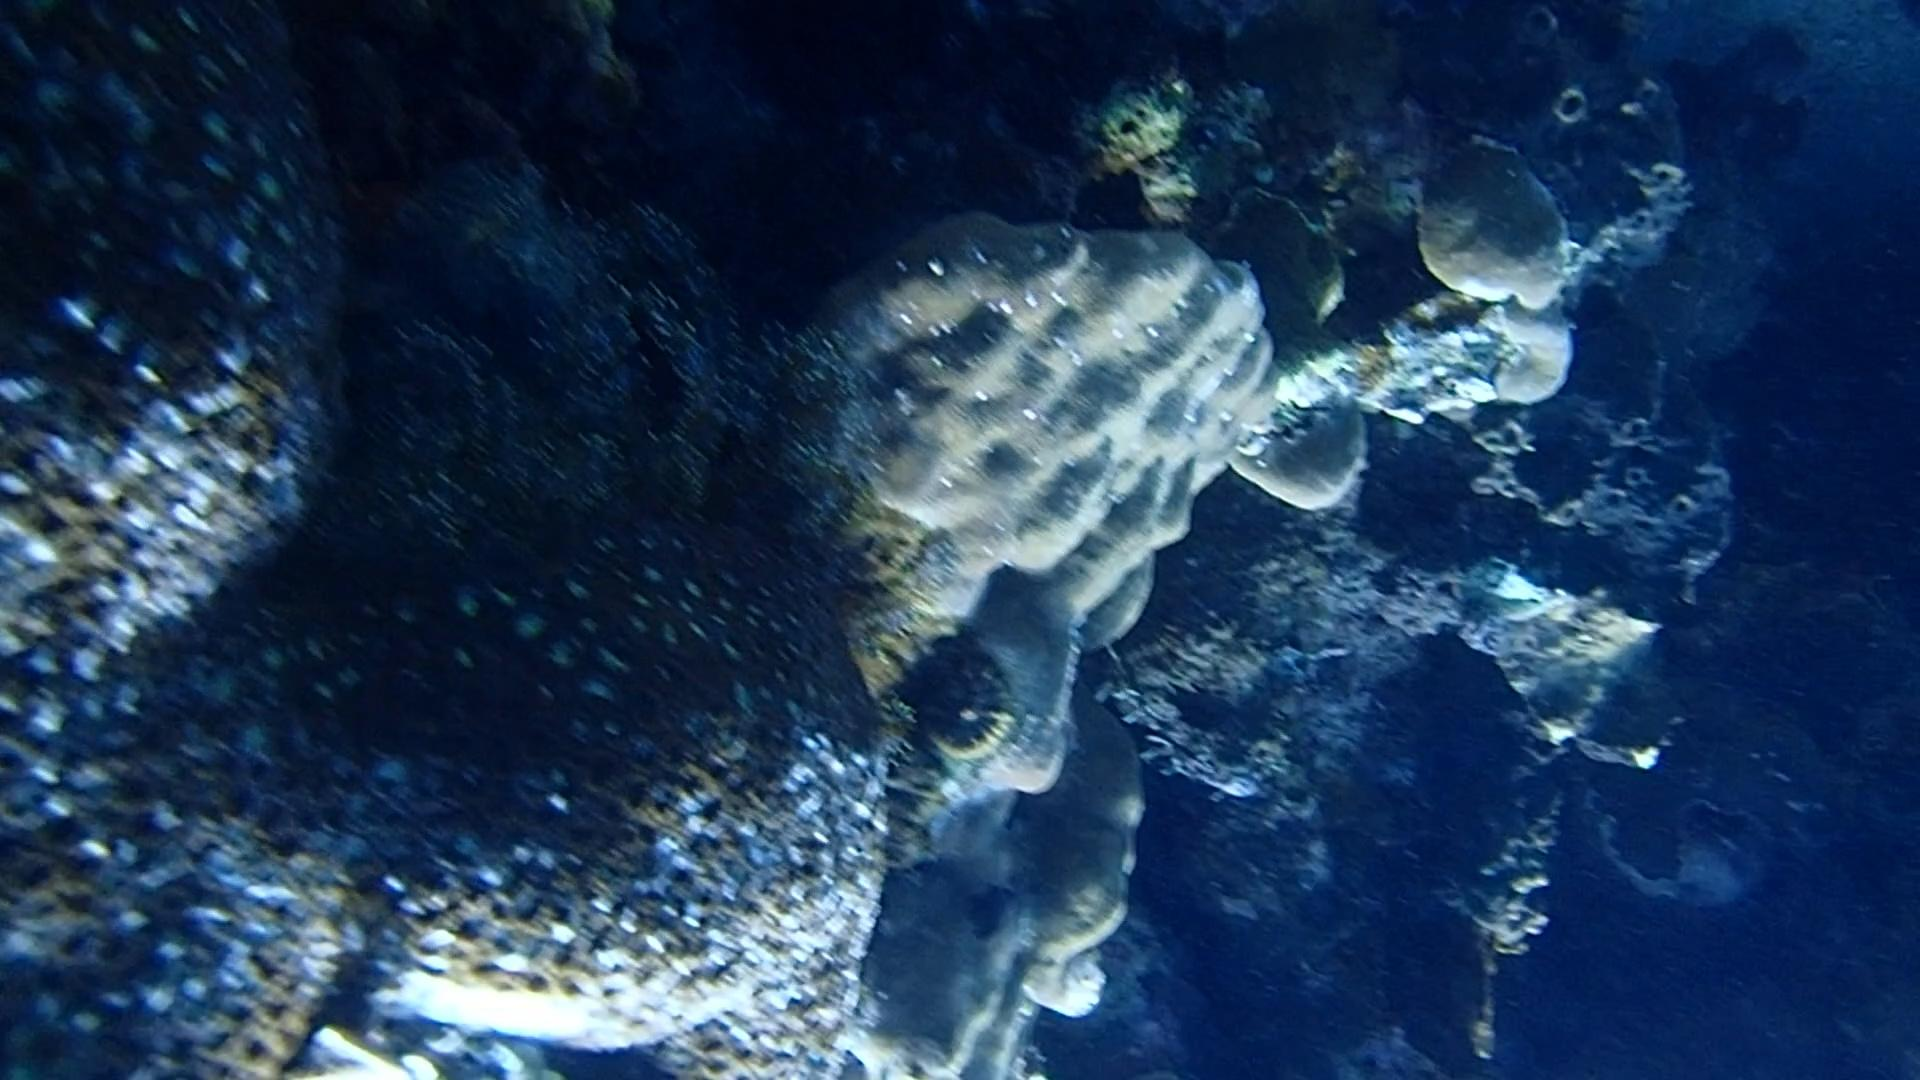Dark Fish: (1160, 676, 1259, 748), (951, 872, 1025, 956)
